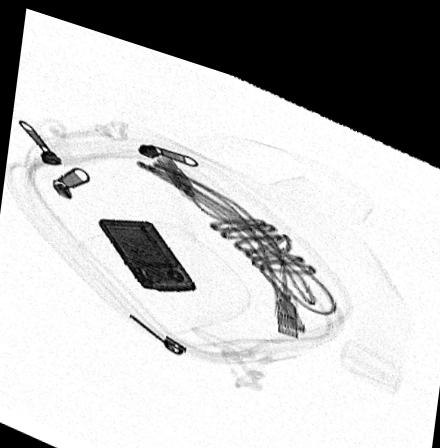Lighter: (97, 211, 196, 283)
